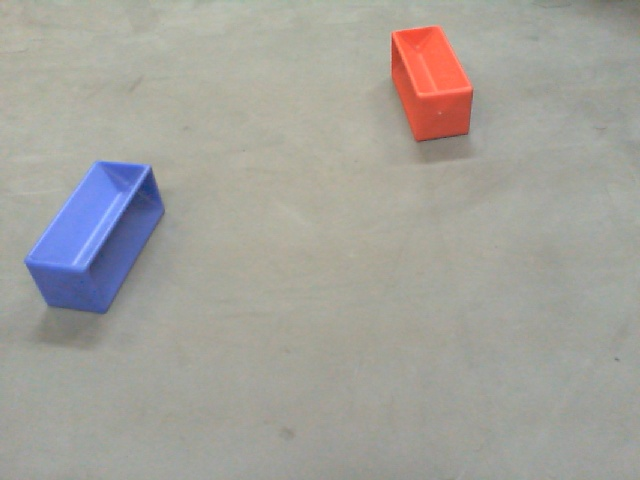BlueSample: (22, 158, 168, 316)
RedSample: (386, 20, 474, 146)
